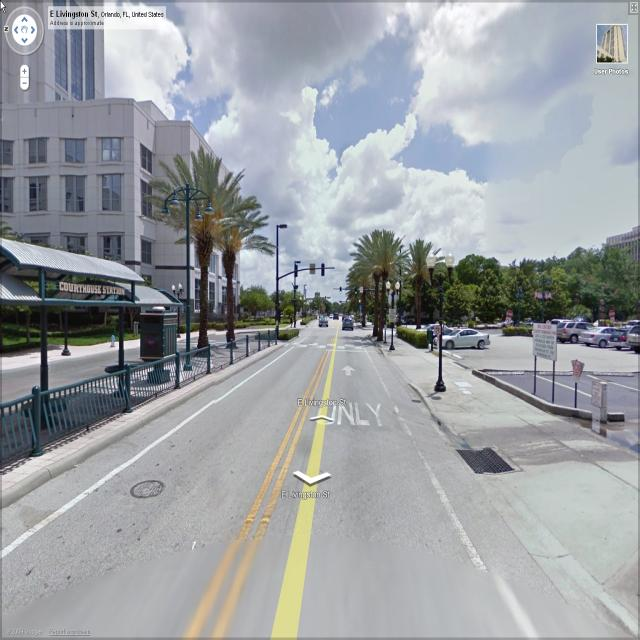b_1: (3, 104, 245, 328), (0, 8, 120, 82)
